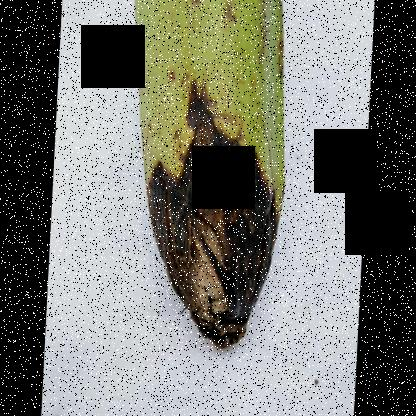rotten: (129, 94, 294, 366)
unripe: (123, 0, 304, 168)
